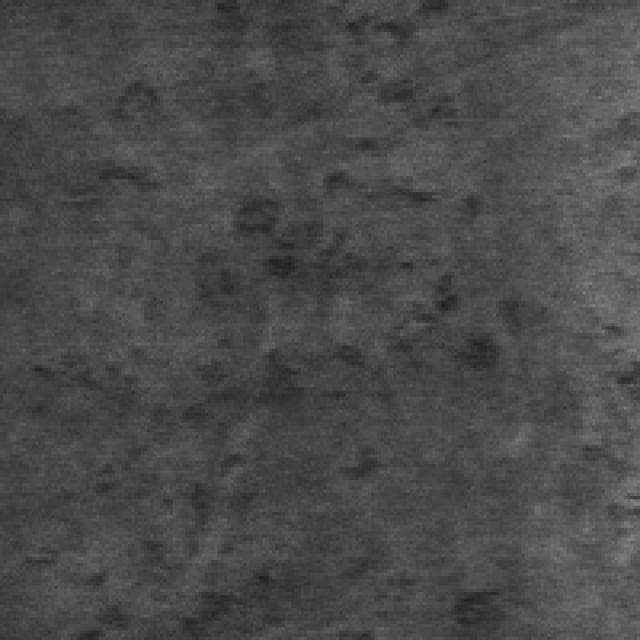rolled-in_scale: (22, 186, 454, 636)
